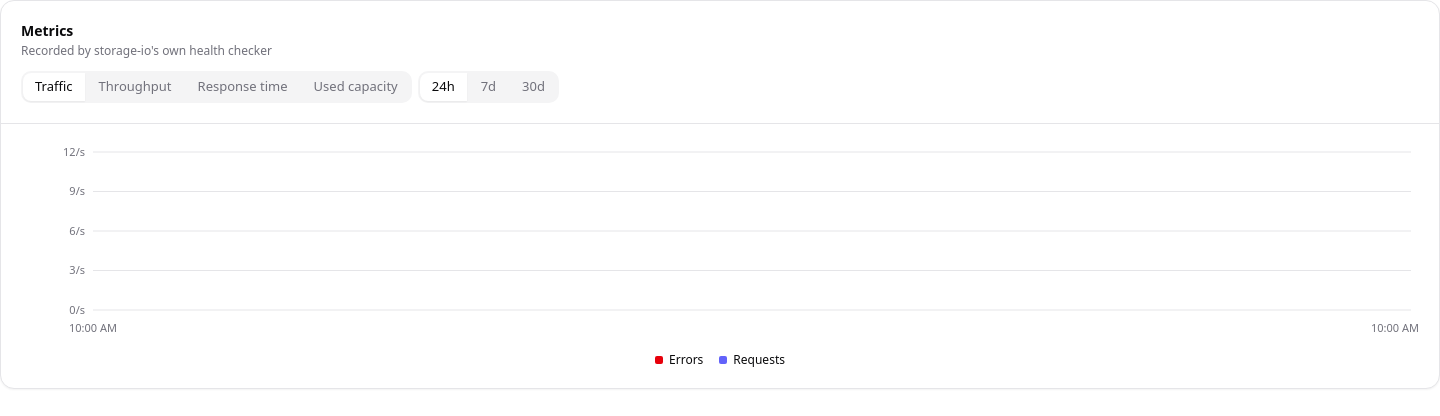
Scenario: ServerMetricsCard › shows the ordinary empty state for a series with no points at all
Click the radio button labelled "Used capacity".
click(356, 87)  # box [302,73,410,101]
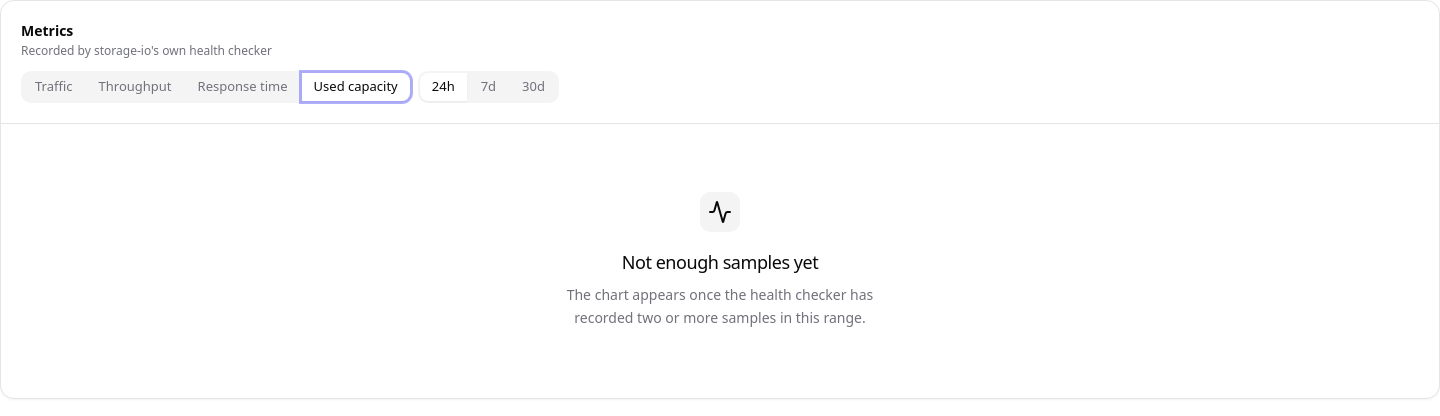
Check: the text "Not enough samples yet" is shown, box [622,248,818,276]
